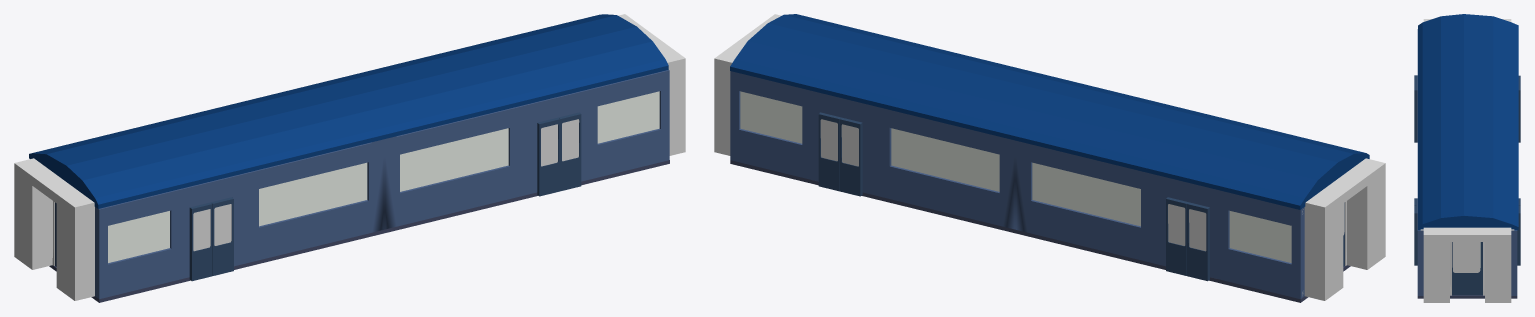
The model's file is Train BG4.fbx.
3 renders of one model, left to right at view 1: azimuth 30°, elevation 25°; view 2: azimuth 150°, elevation 25°; view 3: azimuth 270°, elevation 25°, orthographic. The views are drawn at different scales.
Visible parts, largest first — view 1: Atap, Tembok.002, Konektor.002, Kaca Gede.002, Kaca Gede.003, Kaca Kecil.002, Kaca Kecil.003, Lantai, Konektor.001, Pintu(bg).003, Pintu(bg).007, Pintu(bg).004 (+5 smaller); view 2: Atap, Tembok.001, Konektor.002, Kaca Gede.001, Kaca Gede.004, Kaca Kecil.001, Kaca Kecil.004, Lantai, Konektor.001, Pintu(bg).001, Pintu(bg).006, Pintu(bg).002 (+5 smaller); view 3: Atap, Konektor.001, Kaca(bg).010, Pintu(bg).010, Tembok.002, Tembok.001, Pintu(bg).004, Pintu(bg).008, Pintu Jendela.001, Pintu(bg).002, Lantai, Pintu(bg).005.
Boxes of the visible parts, x1=… form: Atap: x1=29, y1=14, x2=668, y2=208; Tembok.002: x1=95, y1=70, x2=669, y2=299; Konektor.002: x1=14, y1=158, x2=94, y2=300; Kaca Gede.002: x1=259, y1=162, x2=367, y2=226; Kaca Gede.003: x1=400, y1=128, x2=508, y2=191; Kaca Kecil.002: x1=597, y1=91, x2=659, y2=143; Kaca Kecil.003: x1=108, y1=211, x2=169, y2=262; Lantai: x1=49, y1=160, x2=669, y2=302; Konektor.001: x1=618, y1=14, x2=685, y2=155; Pintu(bg).003: x1=189, y1=202, x2=212, y2=281; Pintu(bg).007: x1=537, y1=117, x2=560, y2=196; Pintu(bg).004: x1=211, y1=197, x2=233, y2=275; Atap: x1=730, y1=14, x2=1369, y2=209; Tembok.001: x1=730, y1=71, x2=1304, y2=299; Konektor.002: x1=1304, y1=158, x2=1385, y2=300; Kaca Gede.001: x1=1032, y1=162, x2=1140, y2=226; Kaca Gede.004: x1=891, y1=128, x2=999, y2=191; Kaca Kecil.001: x1=740, y1=91, x2=802, y2=143; Kaca Kecil.004: x1=1229, y1=211, x2=1291, y2=262; Lantai: x1=730, y1=160, x2=1350, y2=302; Konektor.001: x1=714, y1=14, x2=781, y2=155; Pintu(bg).001: x1=839, y1=117, x2=862, y2=196; Pintu(bg).006: x1=1187, y1=202, x2=1209, y2=281; Pintu(bg).002: x1=818, y1=112, x2=841, y2=191; Atap: x1=1418, y1=14, x2=1518, y2=230; Konektor.001: x1=1423, y1=227, x2=1511, y2=302; Kaca(bg).010: x1=1452, y1=242, x2=1479, y2=272; Pintu(bg).010: x1=1452, y1=242, x2=1482, y2=295; Tembok.002: x1=1417, y1=29, x2=1423, y2=295; Tembok.001: x1=1511, y1=230, x2=1517, y2=295; Pintu(bg).004: x1=1414, y1=83, x2=1417, y2=142; Pintu(bg).008: x1=1414, y1=206, x2=1417, y2=265; Pintu Jendela.001: x1=1420, y1=229, x2=1514, y2=295; Pintu(bg).002: x1=1517, y1=206, x2=1520, y2=265; Lantai: x1=1417, y1=295, x2=1517, y2=298; Pintu(bg).005: x1=1518, y1=83, x2=1520, y2=142.
Size of the model in its own units: 5625 by 1002 by 1171.
